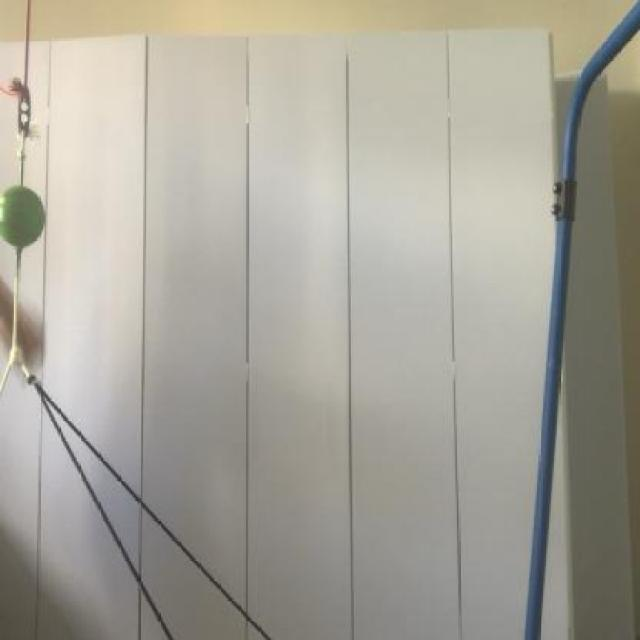baseball: (0, 184, 46, 253)
